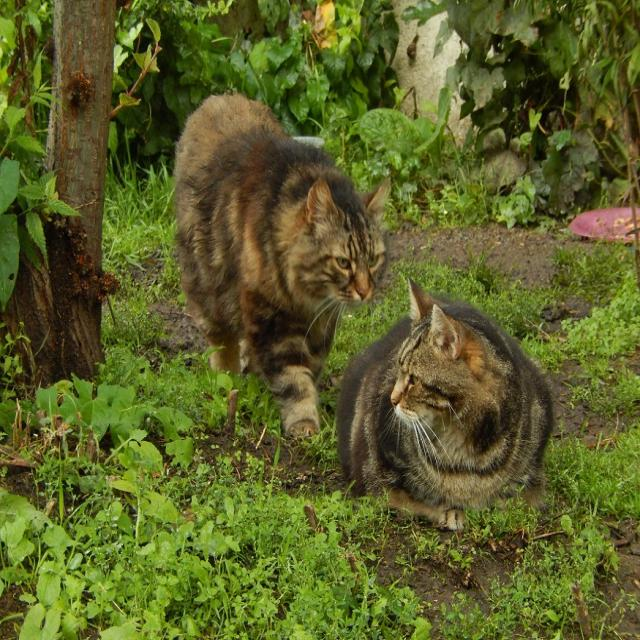cat: (176, 95, 388, 436), (338, 282, 552, 529)
